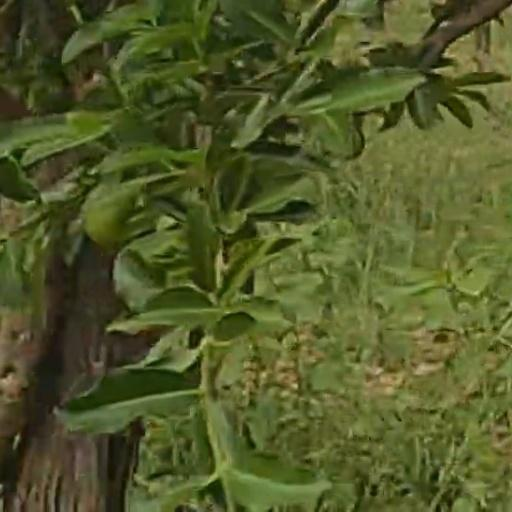acerola_verde: (86, 199, 128, 246)
